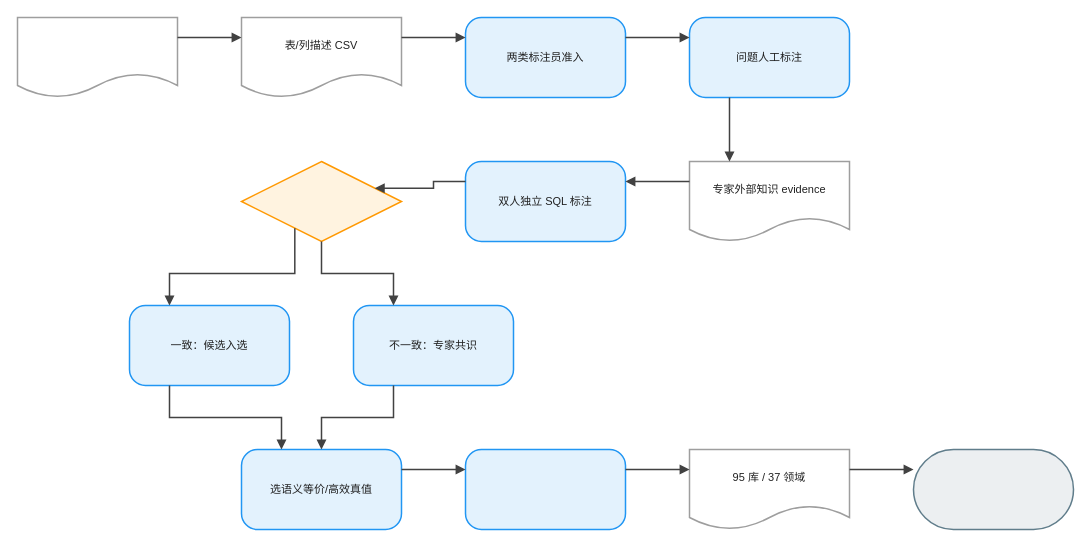
Image size: 1092x548. Some labels were removed from this diagram. Here are the shapes that lost their labels. From the top down, the centre of each, then its label:
At point 97,57: "真实专业数据库".
At point 321,201: "执行结果一致？".
At point 545,489: "SQL 有效性 + 对齐复核".
At point 993,489: "12,751 标注对".
